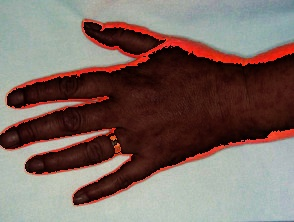SJS-TEN: (104, 10, 294, 182)
